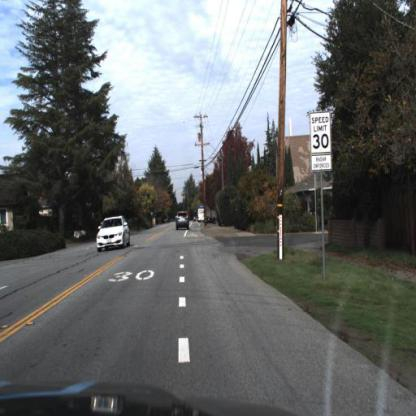car: (94, 214, 131, 256), (174, 208, 192, 236), (197, 206, 207, 224)
